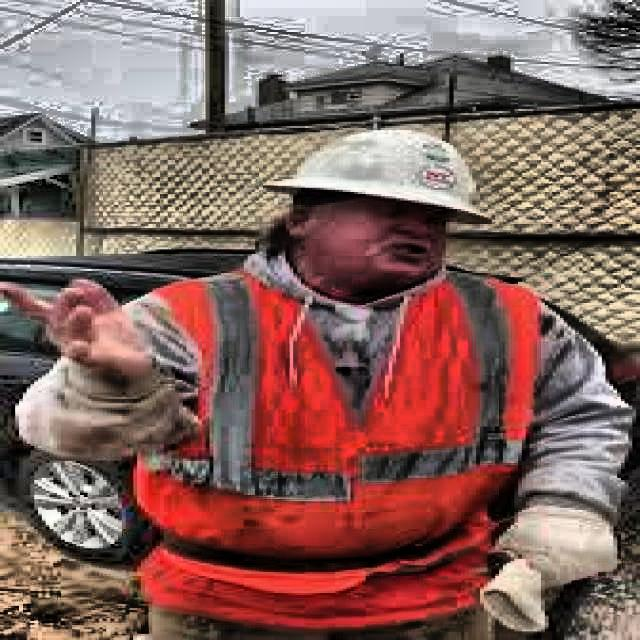safety_jacket: (135, 269, 539, 593)
